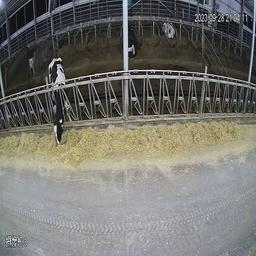cow: (44, 59, 69, 142), (123, 23, 142, 59), (162, 23, 178, 42)
